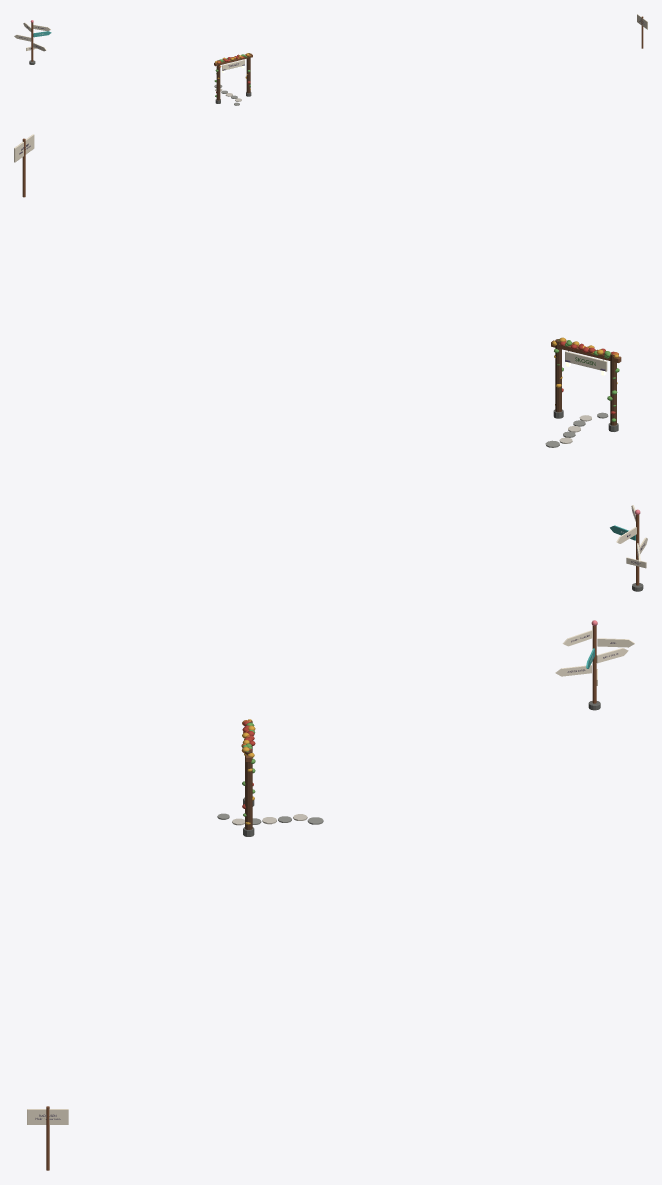
Rendered from wayfinding.glb.
3 renders of one model, top to bottom at view 1: azimuth 30°, elevation 25°; view 2: azimuth 150°, elevation 25°; view 3: azimuth 270°, elevation 25°, orthographic. The views are drawn at different scales.
Parts seen in each view (by area): view 1: Way_board, Way_bark, Way_post; view 2: Way_board, Way_bark, Way_post; view 3: Way_board.
Part boxes in pixels (<box>): Way_board: <box>14,14,647,70</box>; Way_bark: <box>216,53,250,100</box>; Way_post: <box>31,16,643,66</box>; Way_board: <box>14,134,647,568</box>; Way_bark: <box>555,339,616,425</box>; Way_post: <box>22,138,639,585</box>; Way_board: <box>27,630,634,1124</box>.
Size of the model in its own units: 40.08 by 3.46 by 21.8.
